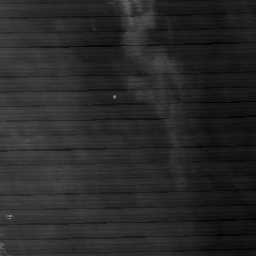Target: (111, 94, 117, 100)
